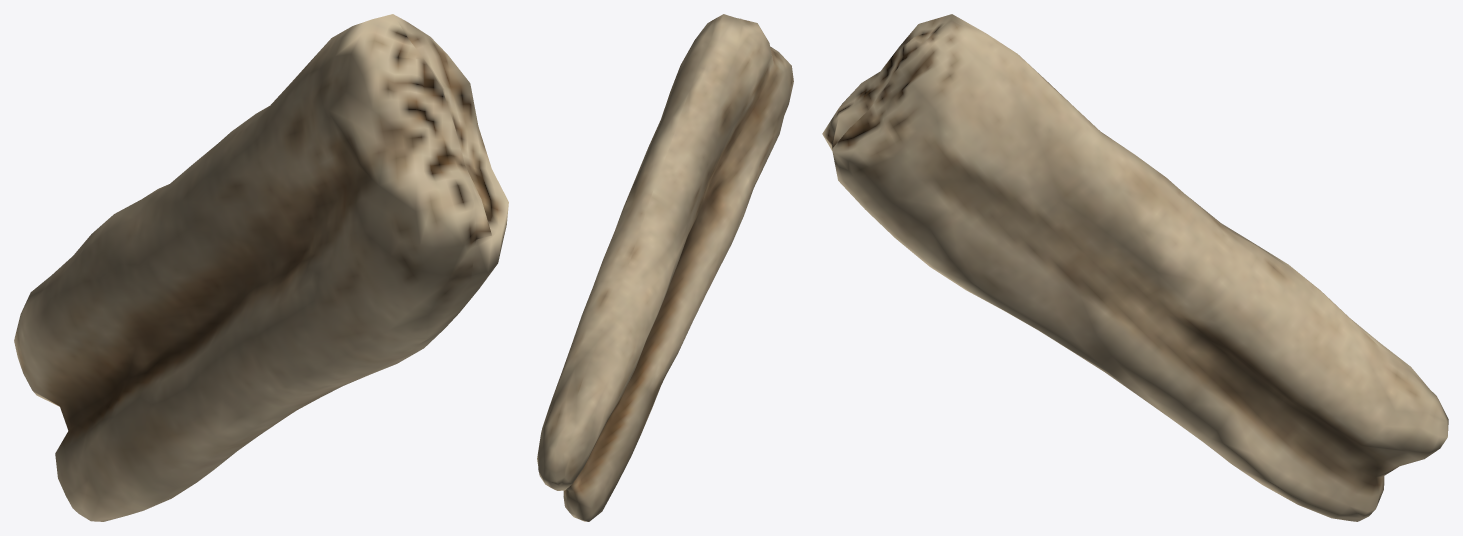
Rendered from Mandibular_Molar5.glb.
The picture shows the model from 3 angles, left to right: view 1: azimuth 30°, elevation 25°; view 2: azimuth 150°, elevation 25°; view 3: azimuth 270°, elevation 25°; orthographic projection. The views are drawn at different scales.
Parts seen in each view (by area): view 1: Mandibular_Molar5.glb; view 2: Mandibular_Molar5.glb; view 3: Mandibular_Molar5.glb.
Part boxes in pixels (bbox=[...]): Mandibular_Molar5.glb: bbox=[14, 14, 508, 521]; Mandibular_Molar5.glb: bbox=[537, 14, 793, 521]; Mandibular_Molar5.glb: bbox=[822, 14, 1448, 521].
Bounding box in the file's own units: 0.0154 × 0.0716 × 0.0798.
Materials: 1 (1 with a texture image).
